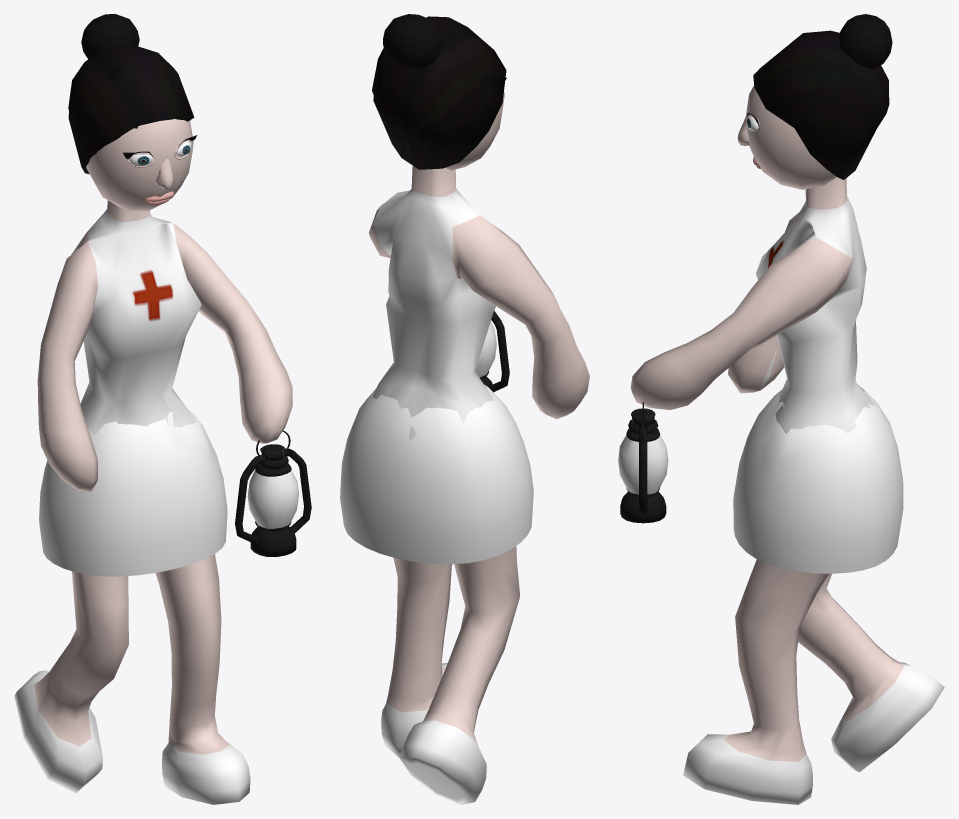
Rendered from walking_000003.obj.
3 renders of one model, left to right at view 1: azimuth 30°, elevation 25°; view 2: azimuth 150°, elevation 25°; view 3: azimuth 270°, elevation 25°, orthographic. The views are drawn at different scales.
Visible parts, largest first — view 1: Cube_Cube.001, Cube.001_Cube, Cube.004; view 2: Cube_Cube.001, Cube.001_Cube, Cube.004; view 3: Cube_Cube.001, Cube.001_Cube, Cube.004.
Boxes of the visible parts, left/top/right/bottom form: Cube_Cube.001: left=14, top=14, right=292, bottom=804; Cube.001_Cube: left=39, top=409, right=227, bottom=576; Cube.004: left=235, top=430, right=311, bottom=556; Cube_Cube.001: left=369, top=14, right=589, bottom=804; Cube.001_Cube: left=340, top=385, right=533, bottom=564; Cube.004: left=475, top=311, right=509, bottom=392; Cube_Cube.001: left=630, top=14, right=944, bottom=804; Cube.001_Cube: left=733, top=387, right=903, bottom=573; Cube.004: left=618, top=402, right=668, bottom=523.
Bounding box in the file's own units: 0.5978 × 2.11 × 0.8077.
